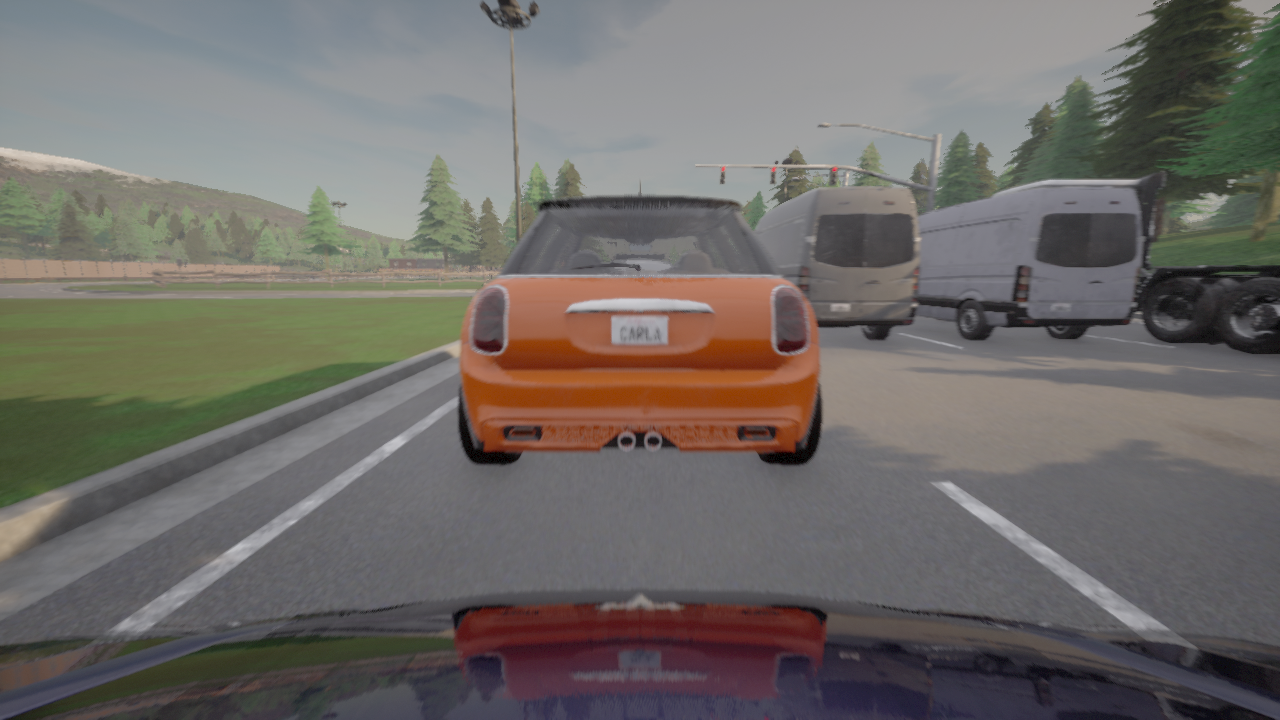cyclist: (0, 588, 1279, 719), (458, 179, 821, 463), (992, 171, 1279, 354), (916, 187, 1143, 339), (754, 187, 920, 339)
